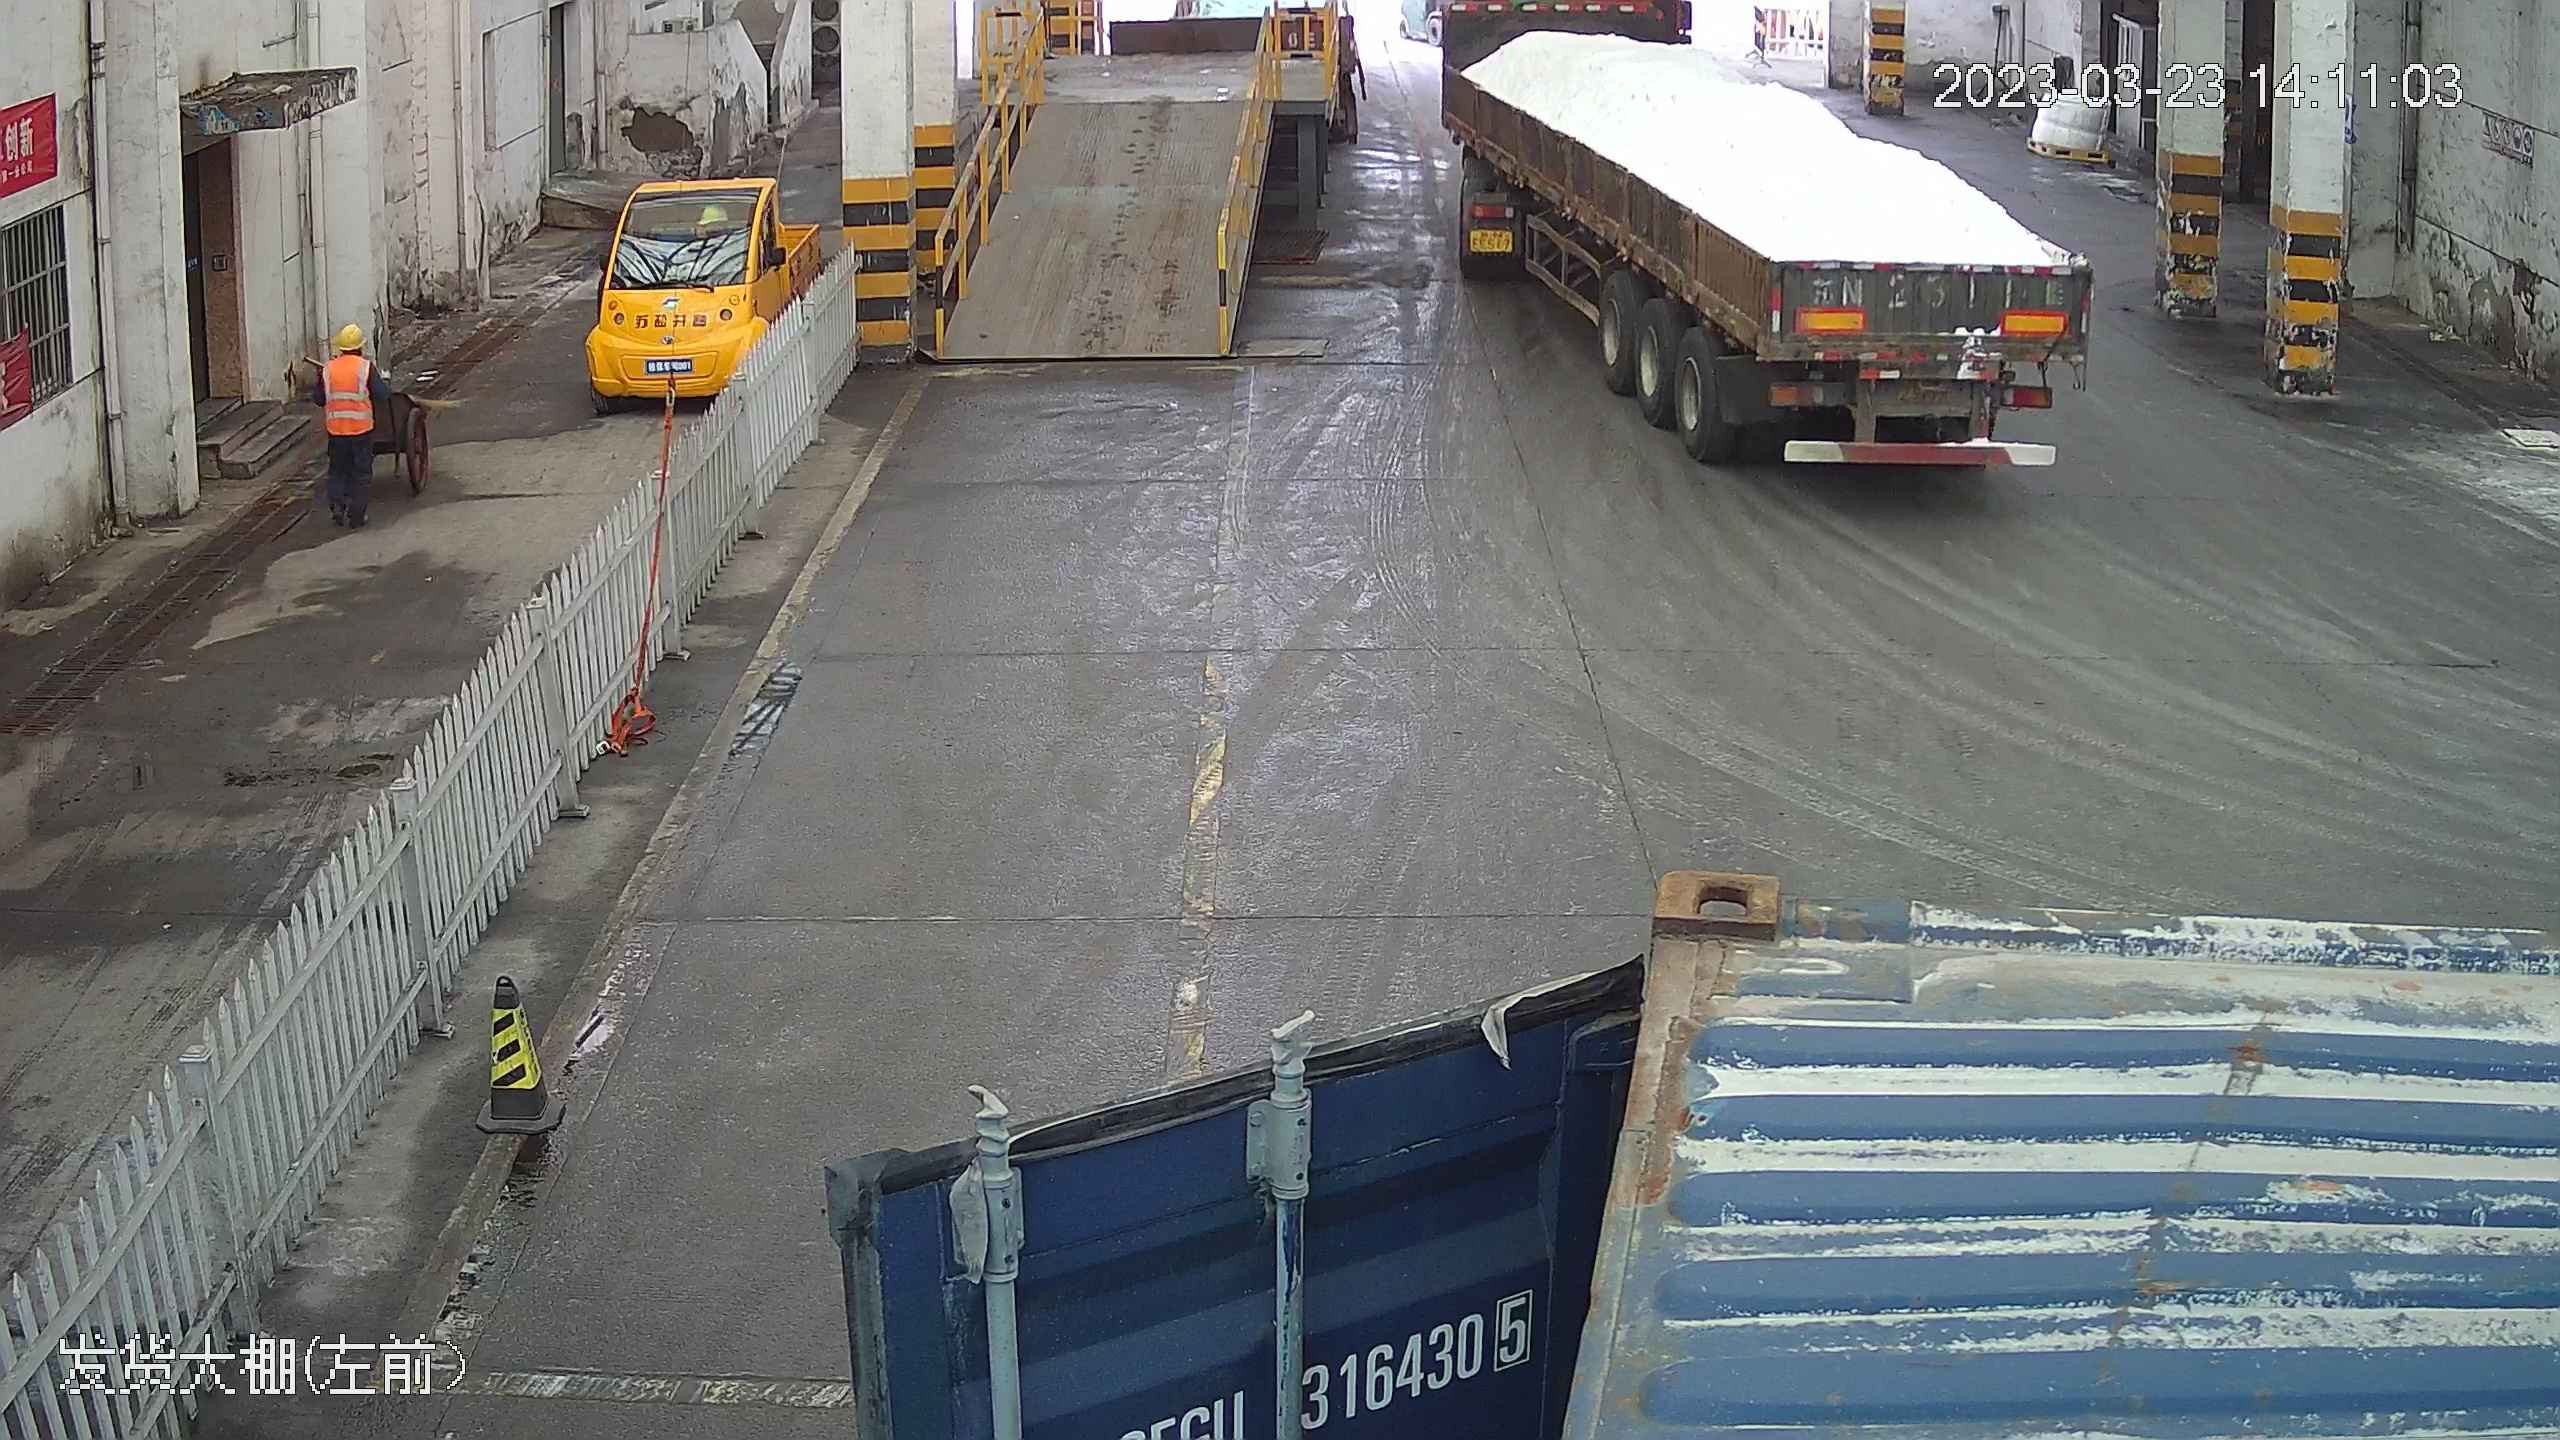head: (314, 314, 392, 527), (320, 319, 387, 394)
helmet: (332, 320, 368, 348)
people: (314, 315, 394, 536)
truck: (1417, 1, 2106, 495)
